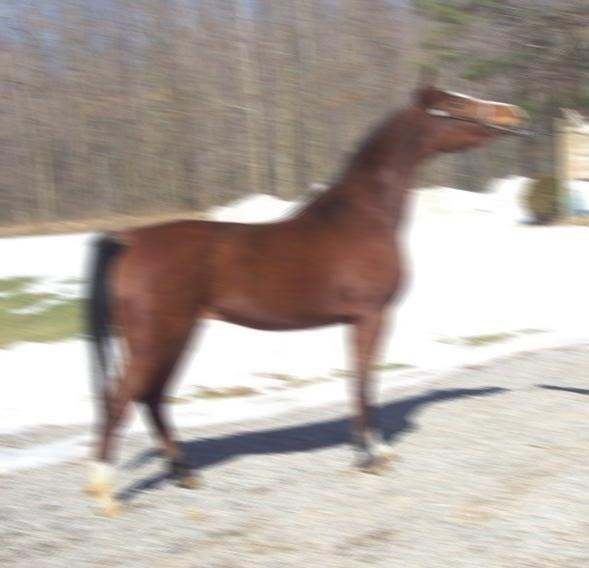horse: (77, 65, 526, 518)
